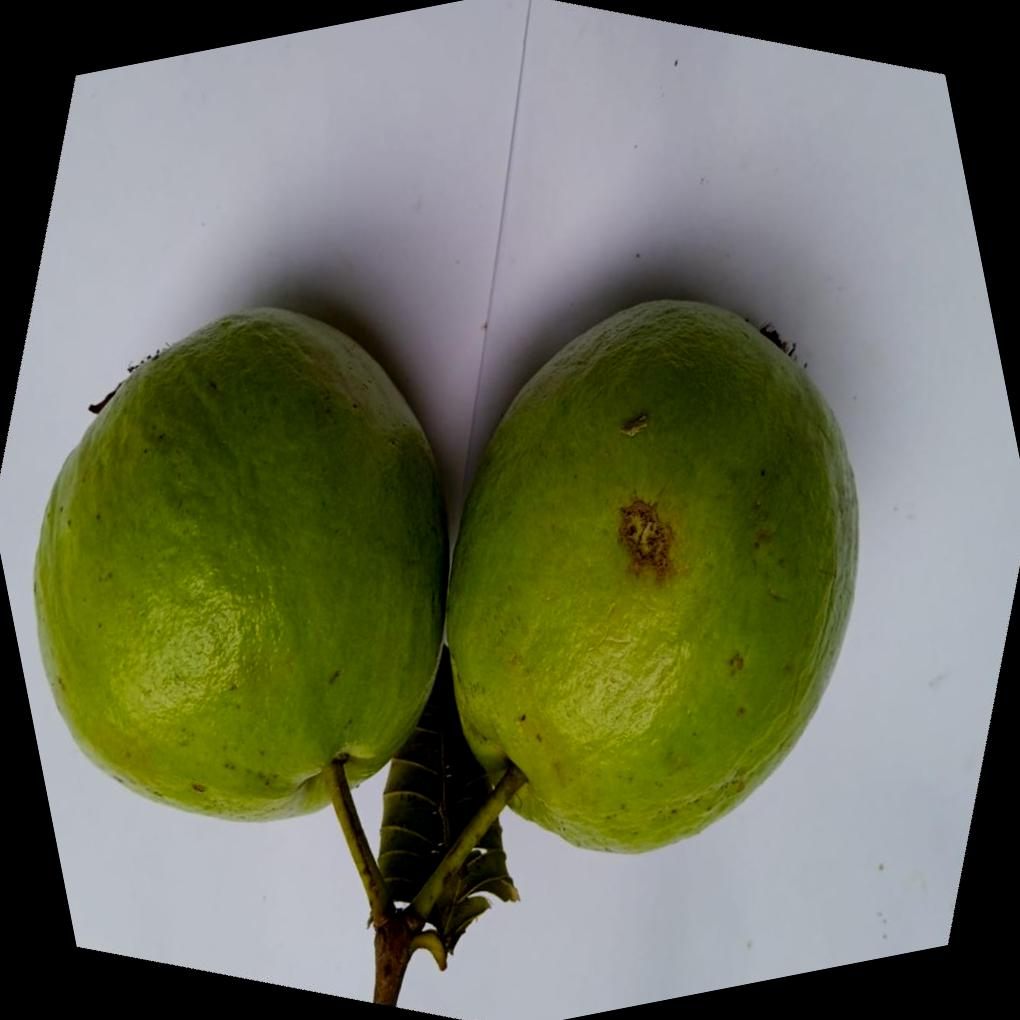FreshGuava: (29, 296, 858, 945)
